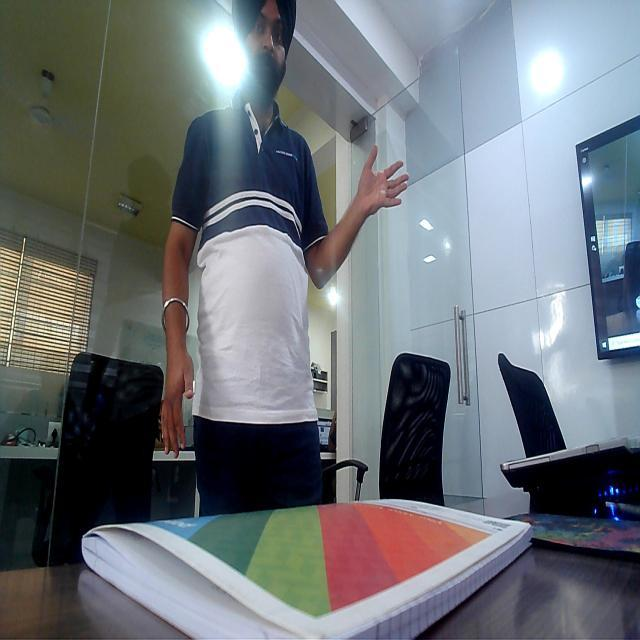without_gloves: (352, 132, 432, 235), (154, 334, 200, 468)
